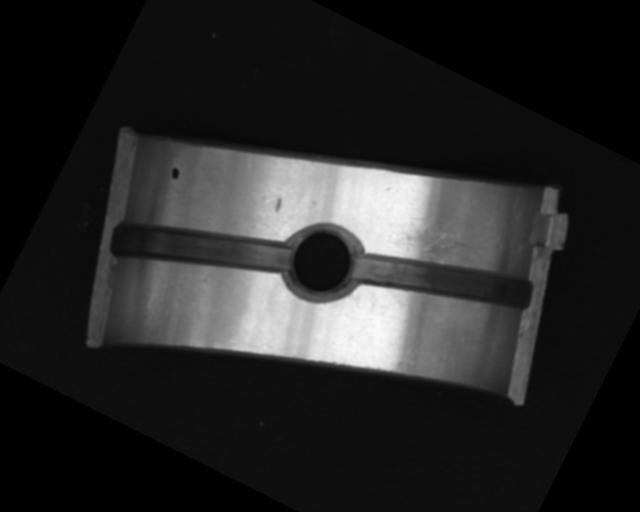blot: (167, 164, 183, 182)
bruise: (272, 196, 285, 213)
gap: (105, 174, 296, 324), (348, 207, 540, 354)
hole: (271, 213, 370, 311)
scratch: (388, 198, 495, 285)
